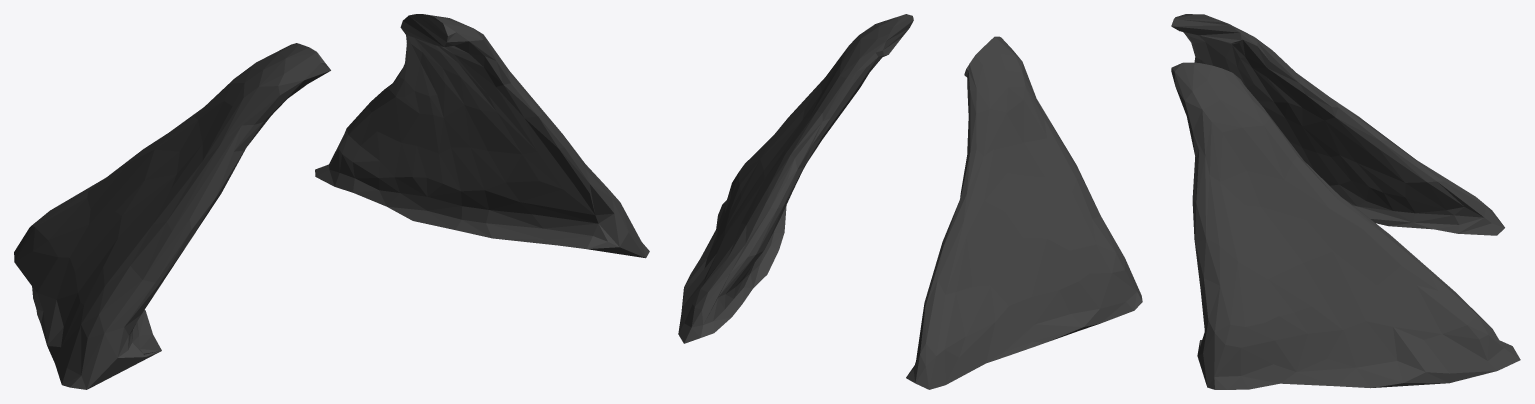
File: lig_sacroiliac_long.glb
The picture shows the model from 3 angles, left to right: view 1: azimuth 30°, elevation 25°; view 2: azimuth 150°, elevation 25°; view 3: azimuth 270°, elevation 25°; orthographic projection. The views are drawn at different scales.
Parts seen in each view (by area): view 1: lig_sacroiliac_long; view 2: lig_sacroiliac_long; view 3: lig_sacroiliac_long.
Part boxes in pixels (<box>): lig_sacroiliac_long: <box>14,14,649,389</box>; lig_sacroiliac_long: <box>678,14,1142,389</box>; lig_sacroiliac_long: <box>1171,14,1520,389</box>.
Size of the model in its own units: 0.00277 by 0.00152 by 0.00182.
1 material, 1 textured.
